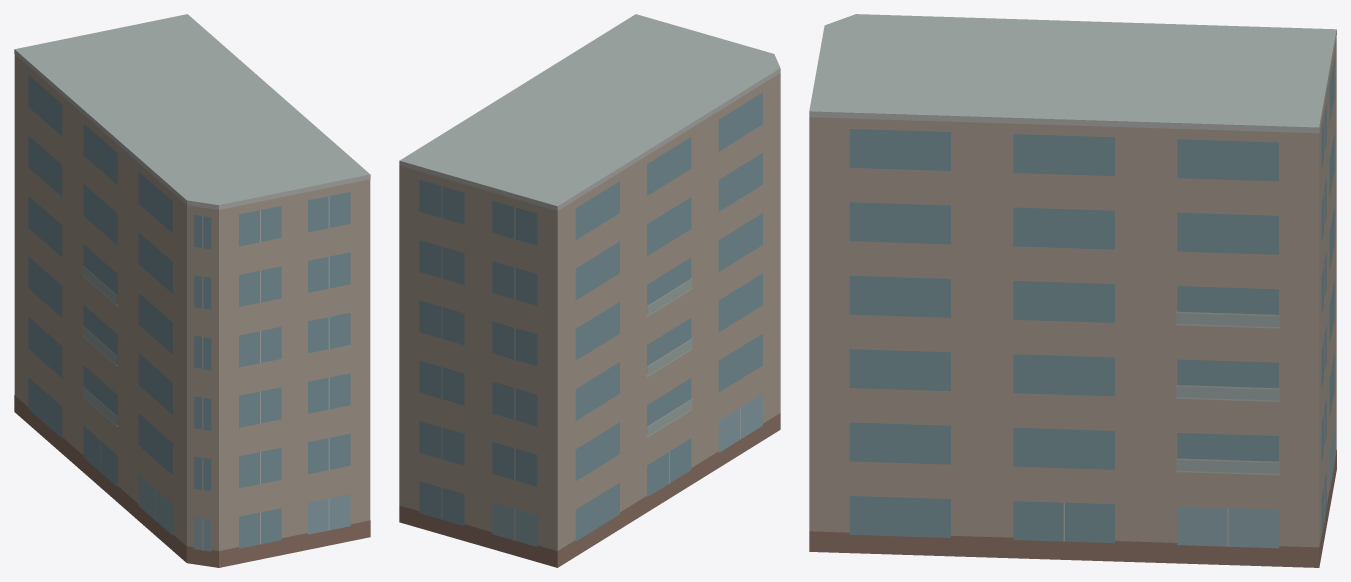
The model's file is survey-upis-33042699.glb.
The picture shows the model from 3 angles, left to right: view 1: azimuth 30°, elevation 25°; view 2: azimuth 150°, elevation 25°; view 3: azimuth 270°, elevation 25°; orthographic projection. The views are drawn at different scales.
Parts seen in each view (by area): view 1: survey-upis-33042699.tmp; view 2: survey-upis-33042699.tmp; view 3: survey-upis-33042699.tmp.
Boxes of the visible parts, x1=… form: survey-upis-33042699.tmp: x1=14, y1=14, x2=370, y2=567; survey-upis-33042699.tmp: x1=399, y1=14, x2=780, y2=567; survey-upis-33042699.tmp: x1=809, y1=14, x2=1336, y2=567.
Size of the model in its own units: 10.18 by 18.4 by 19.99.
